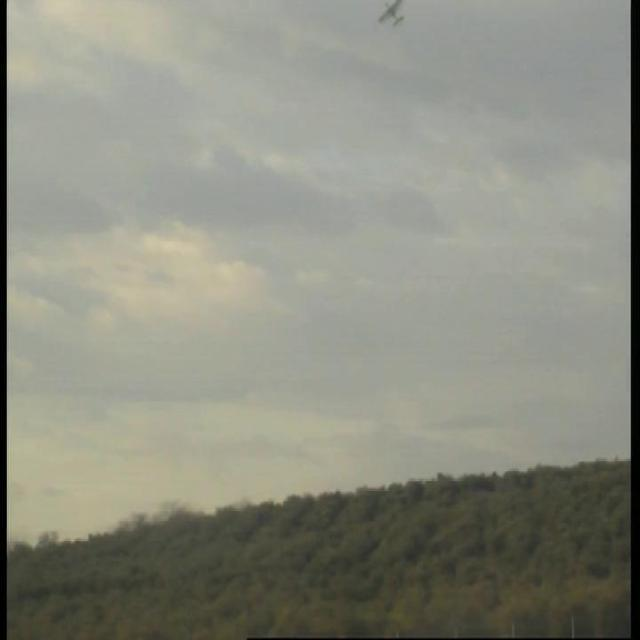drone: (366, 1, 416, 32)
